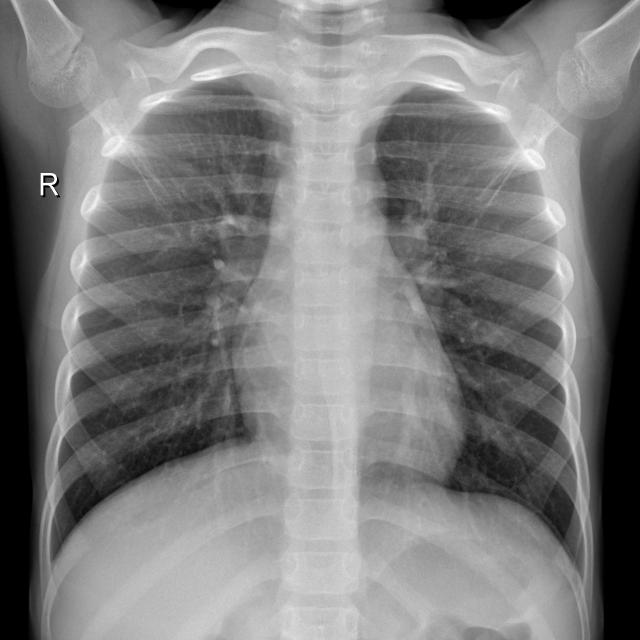no-pneumonia: (49, 81, 293, 561), (377, 88, 586, 568)
